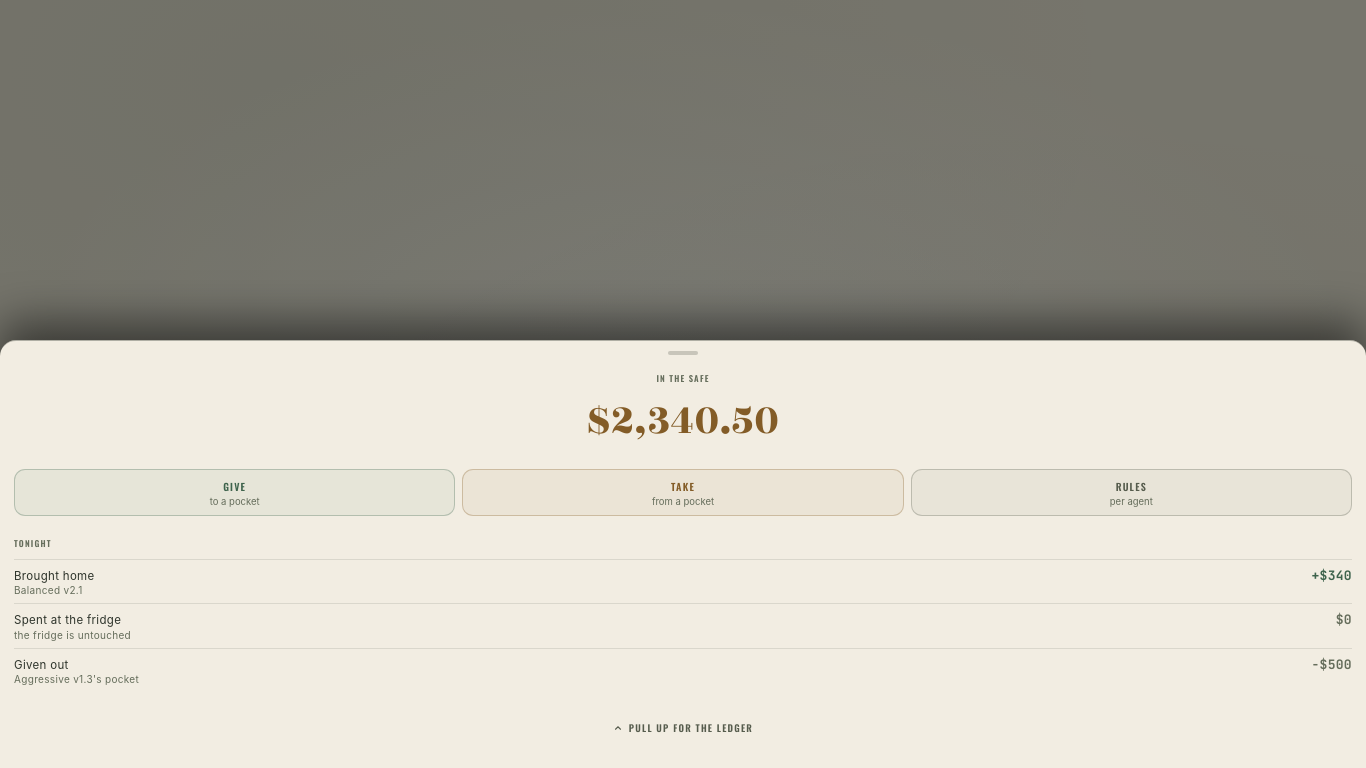
Test case: SAFE-2 — the ledger is the sheet's second size › pulls up on the same glass, newest first, one sentence per line
This screenshot has width=1366, height=768.
Click the button "Pull up for the ledger" at (683,728), box [601,706,765,750]
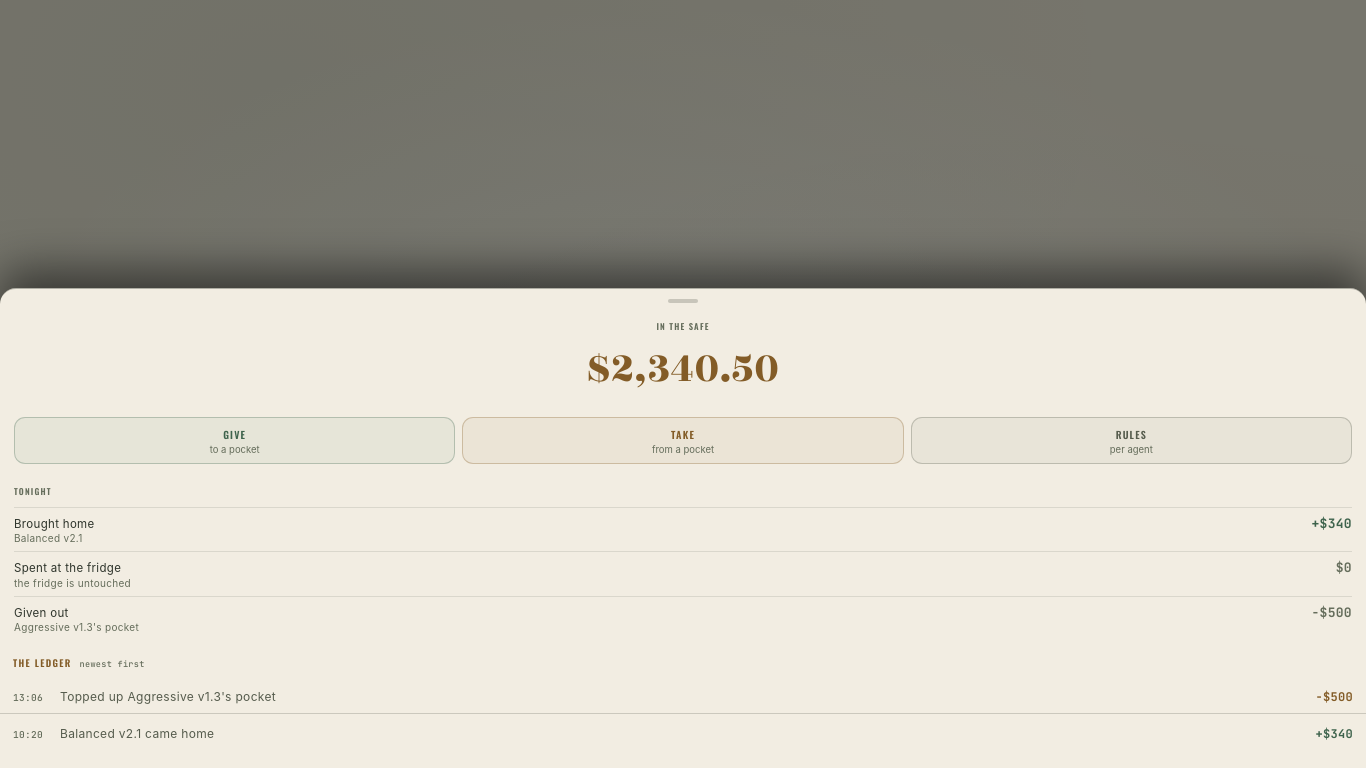
Expected: the text "newest first" is shown, [80,658,145,670]
Expected: the element with class "wal-ledger__row" shows "Topped up Aggressive v1.3's pocket", [60,689,276,704]
Expected: the element with class "wal-ledger__row" shows "Balanced v2.1 came home", [60,726,214,741]
